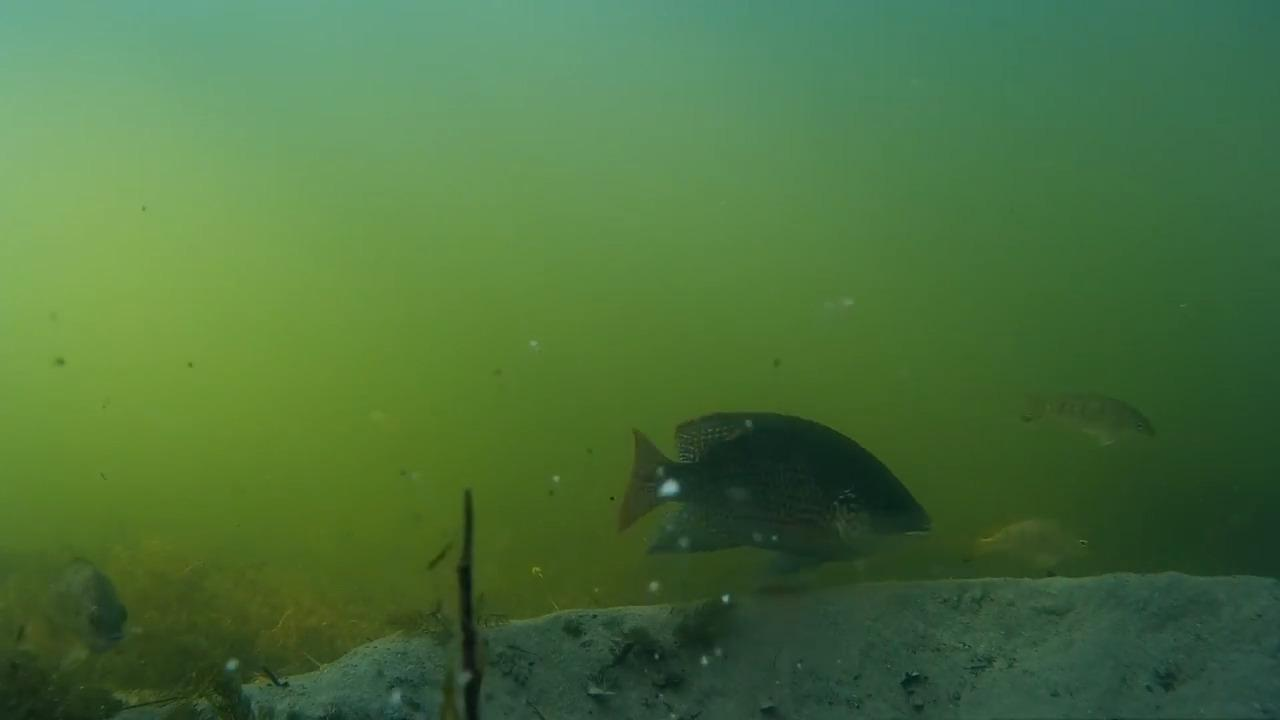Tilapia: (612, 406, 943, 594), (956, 502, 1109, 610), (1010, 382, 1173, 478), (49, 550, 143, 662)
